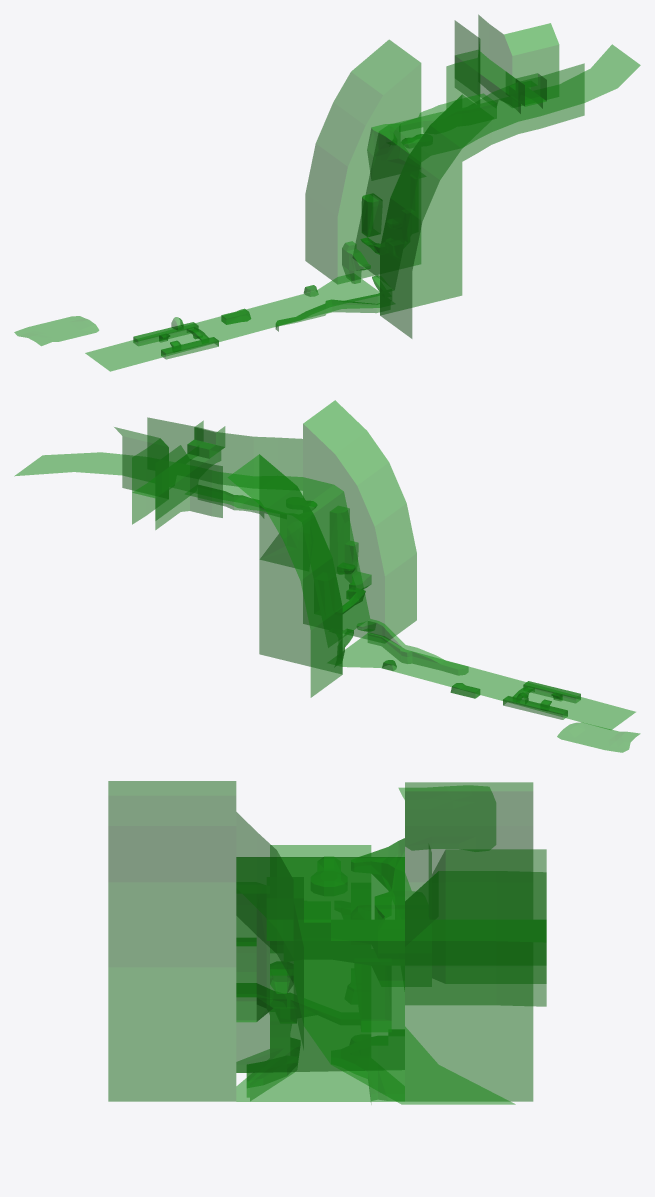
The model's file is hit.obj.
The picture shows the model from 3 angles, top to bottom: view 1: azimuth 30°, elevation 25°; view 2: azimuth 150°, elevation 25°; view 3: azimuth 270°, elevation 25°; orthographic projection. The views are drawn at different scales.
Size of the model in its own units: 413 by 131 by 130.
